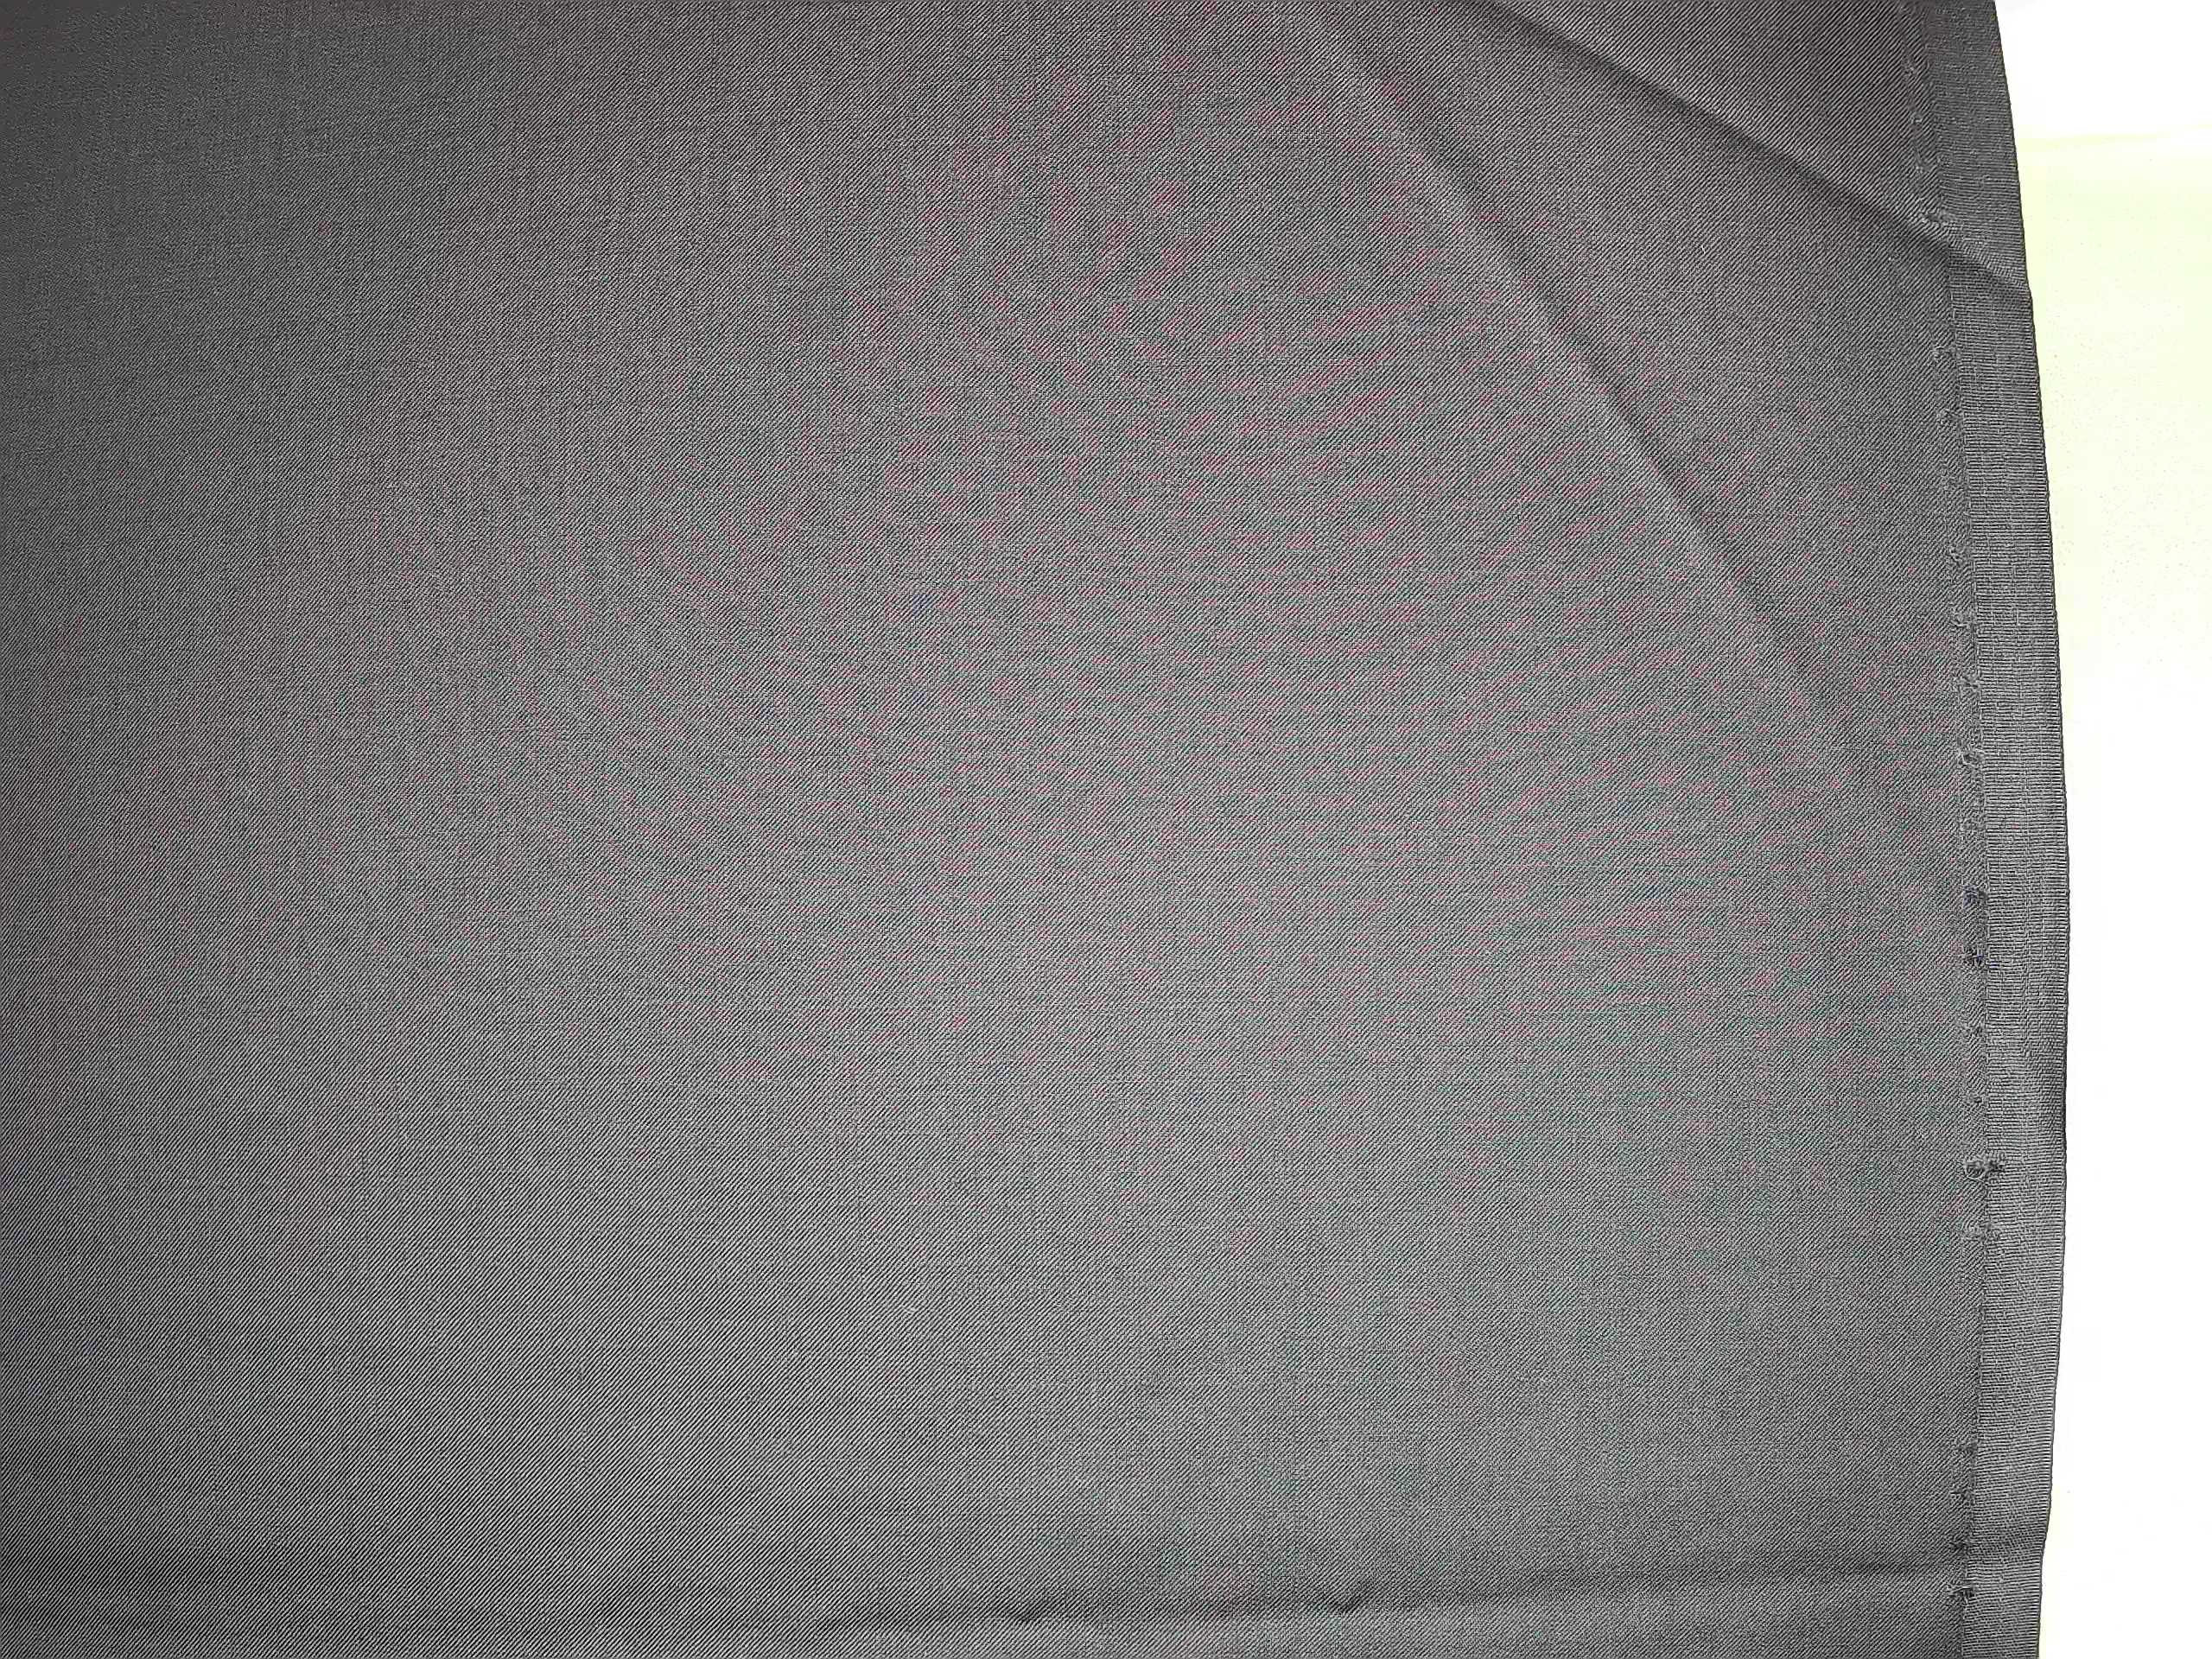puncture-hole: (1888, 159, 2031, 1610)
